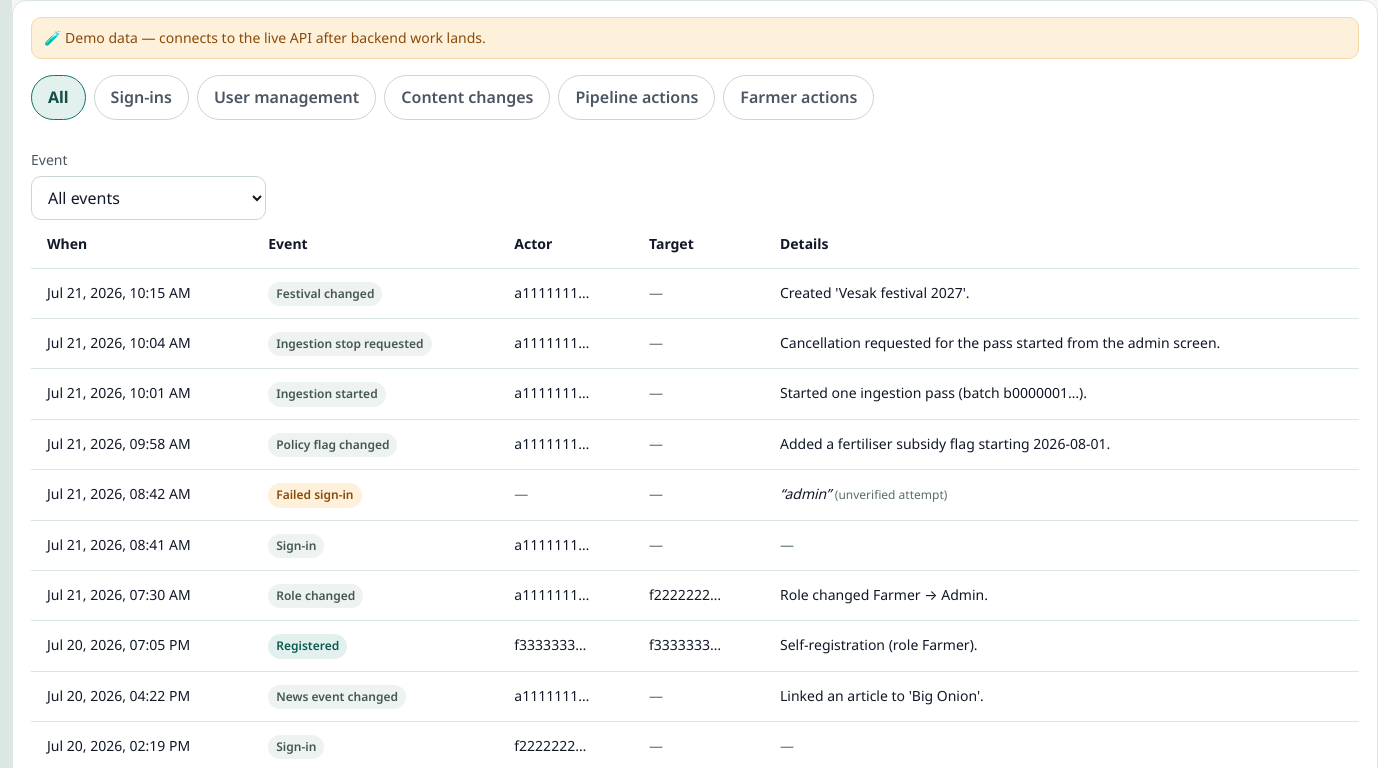
Scenario: System log — group sub-tabs › sends the group wire strings as types= and reflects the group in the URL
The image size is (1378, 768).
Click the tab "Sign-ins" at (141, 97), box [94,75,189,120]
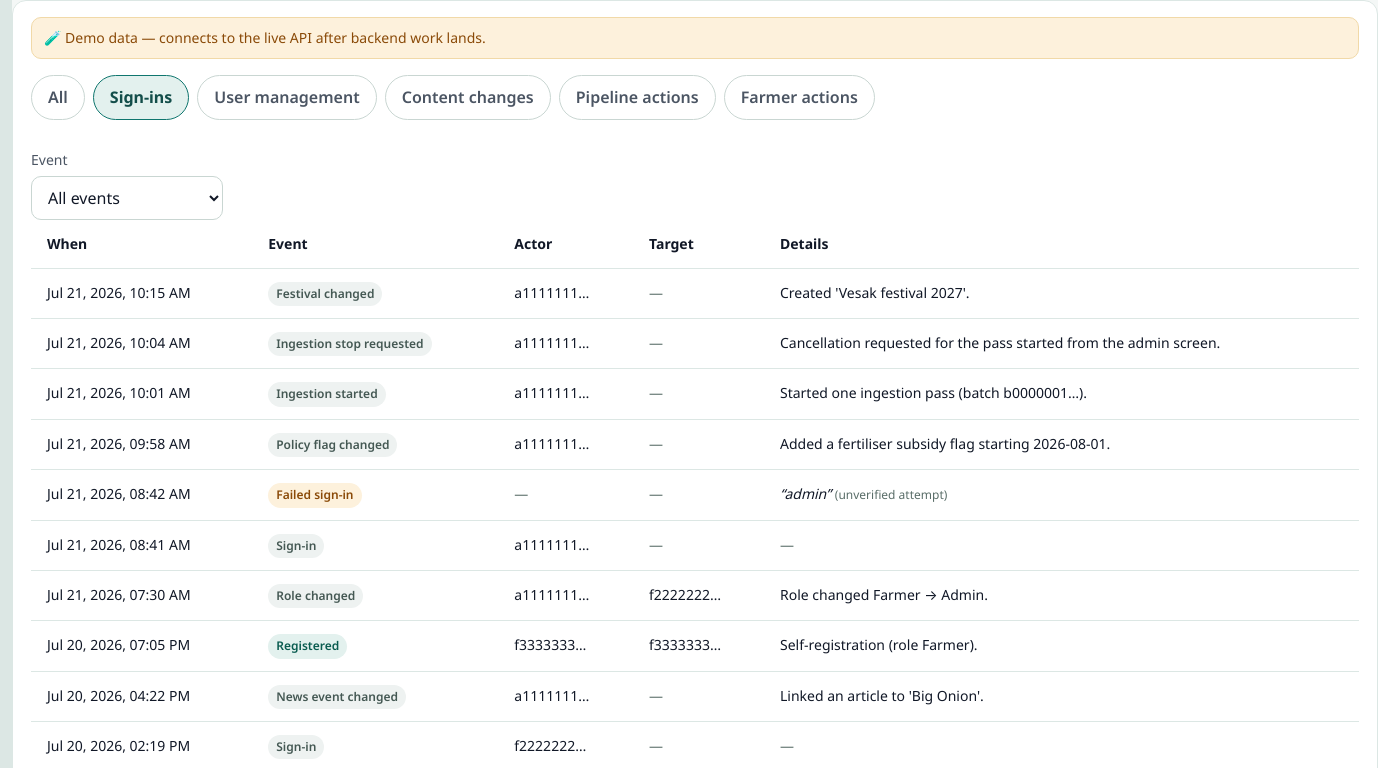
Now the tab "Sign-ins" is selected, box [93,75,189,120]
Click the tab "User management" at (287, 97), box [197,75,377,120]
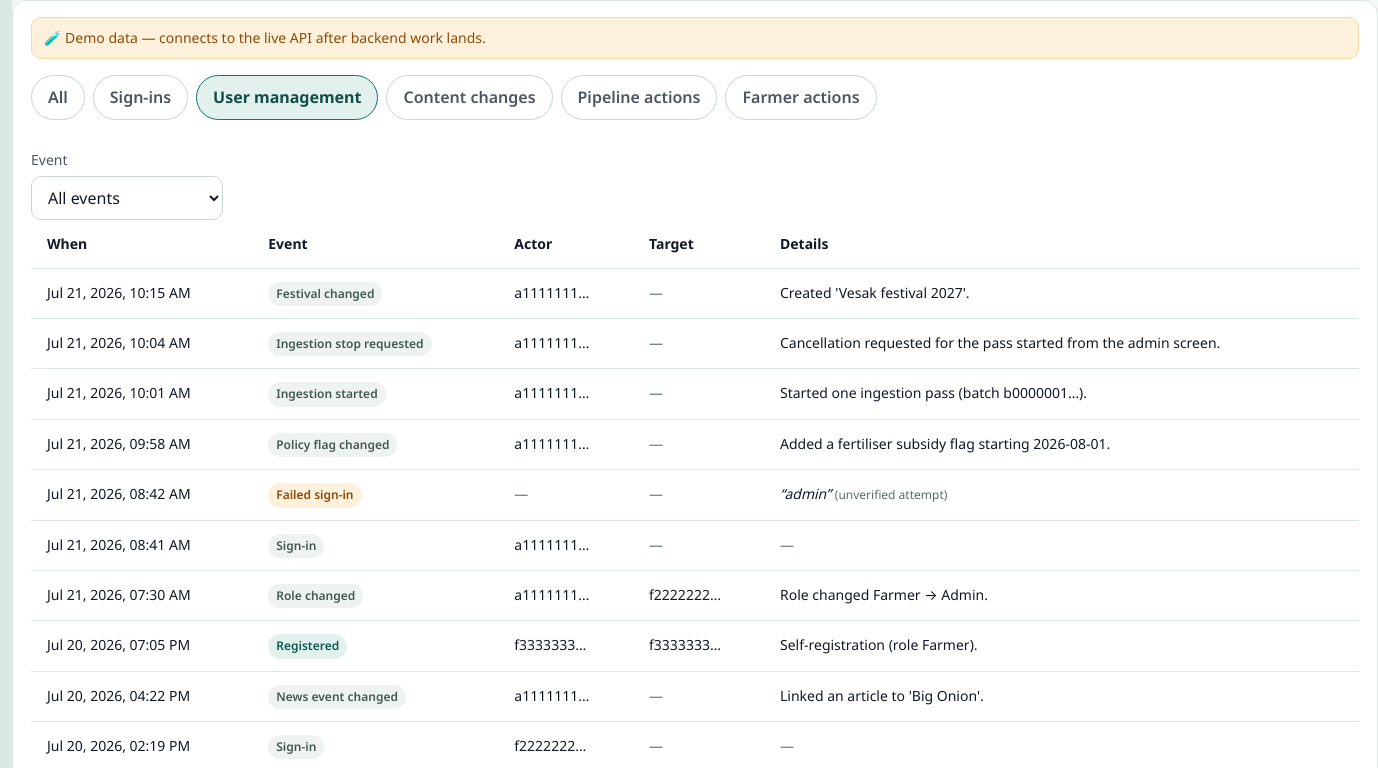
Click the tab "Content changes" at (469, 97), box [386,75,552,120]
(page scrolled)
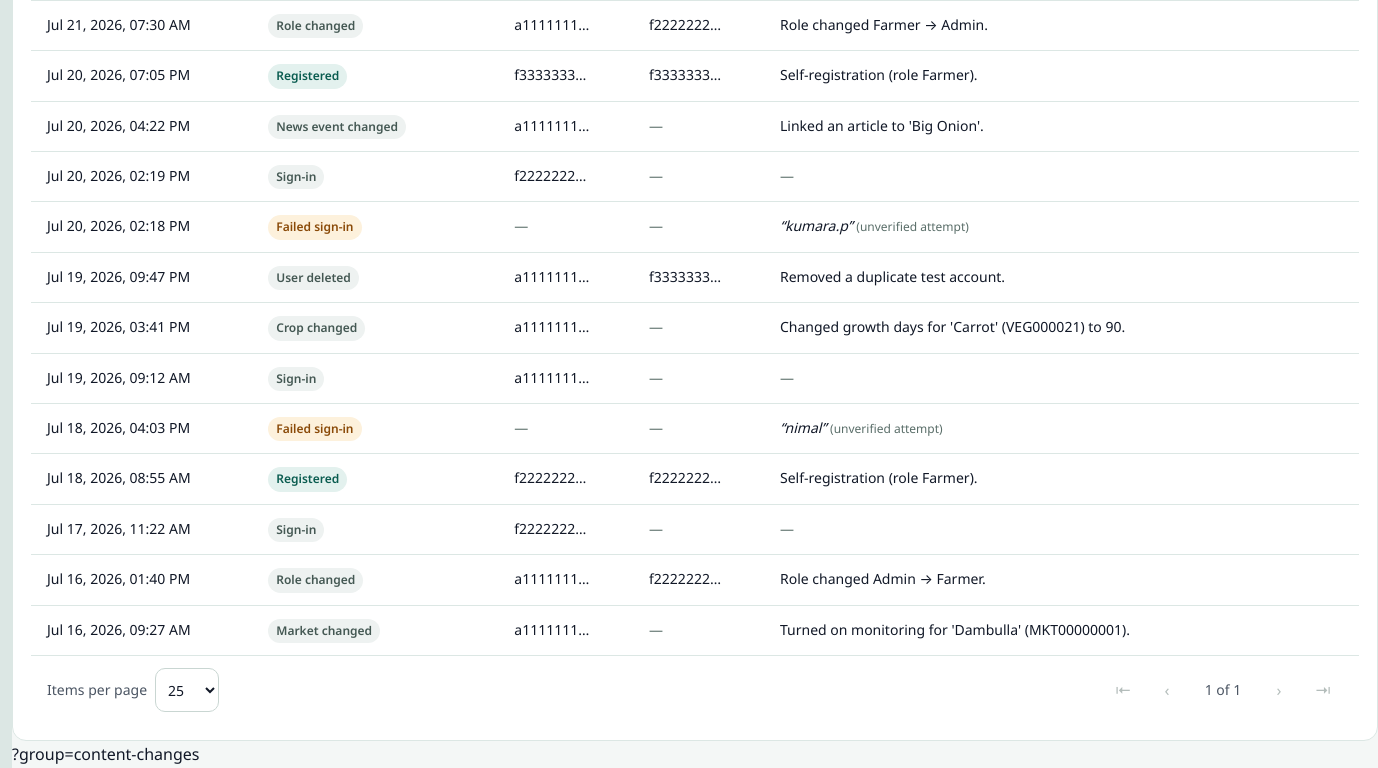
Now the text with test id "search" reads "?group=content-changes", box [12,743,200,765]
